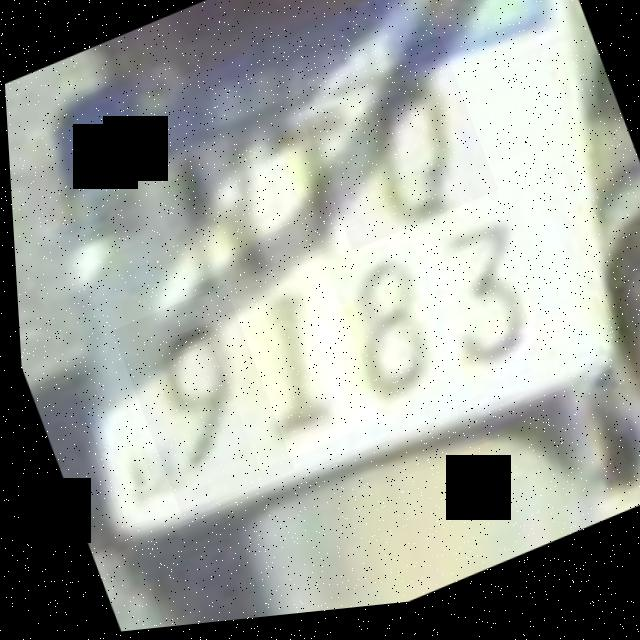3: (356, 155, 597, 428)
9: (106, 283, 290, 523)
B: (282, 201, 487, 446)
D: (290, 41, 497, 262)
I: (190, 249, 380, 479)
